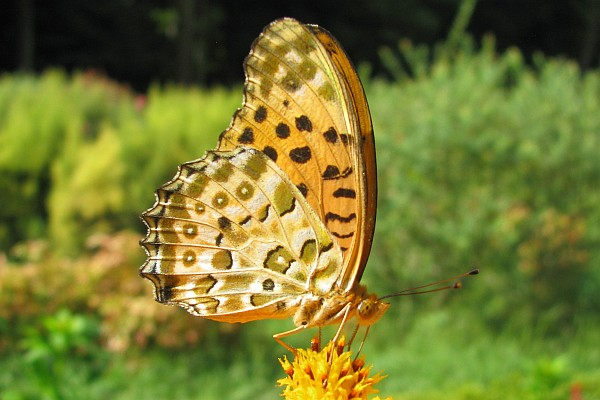Argyreus hyperbius: (135, 16, 481, 378)
butterfly: (137, 15, 483, 380)
